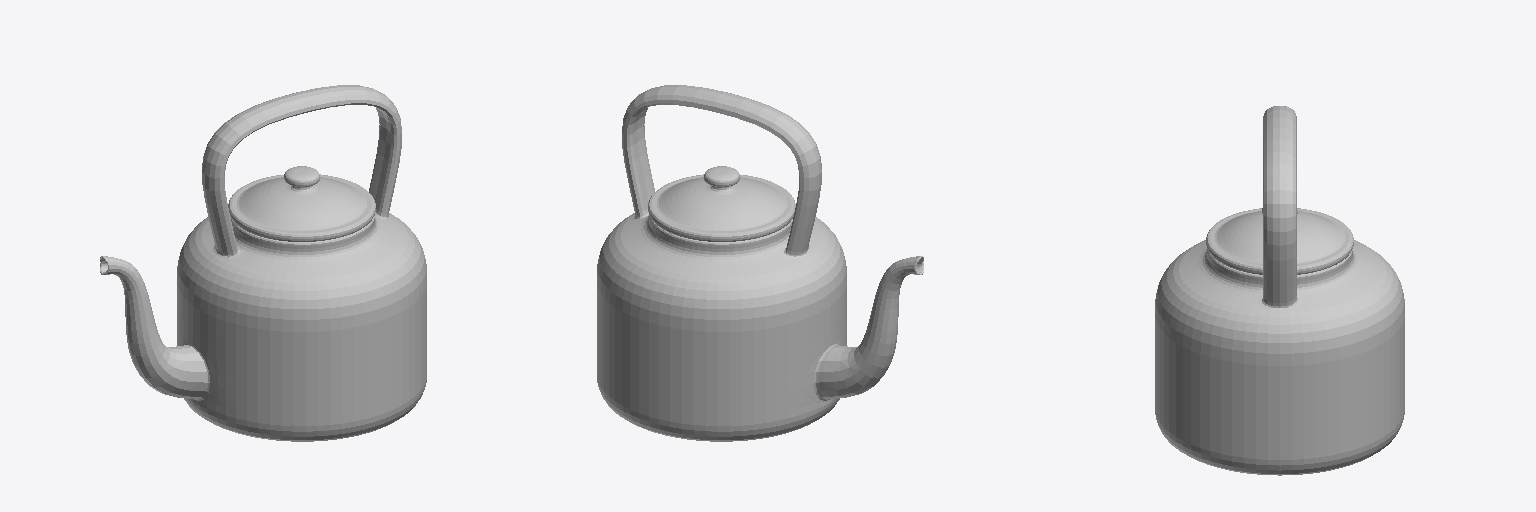
Rendered from Kettle.obj.
3 views of the same model, side by side, from view 1: azimuth 30°, elevation 25°; view 2: azimuth 150°, elevation 25°; view 3: azimuth 270°, elevation 25° (orthographic).
Parts seen in each view (by area): view 1: kettle; view 2: kettle; view 3: kettle.
Part boxes in pixels (left/top/right/bottom): kettle: left=100, top=85, right=426, bottom=441; kettle: left=597, top=85, right=923, bottom=441; kettle: left=1155, top=106, right=1404, bottom=475.
Bounding box in the file's own units: 0.2588 × 0.2414 × 0.1817.